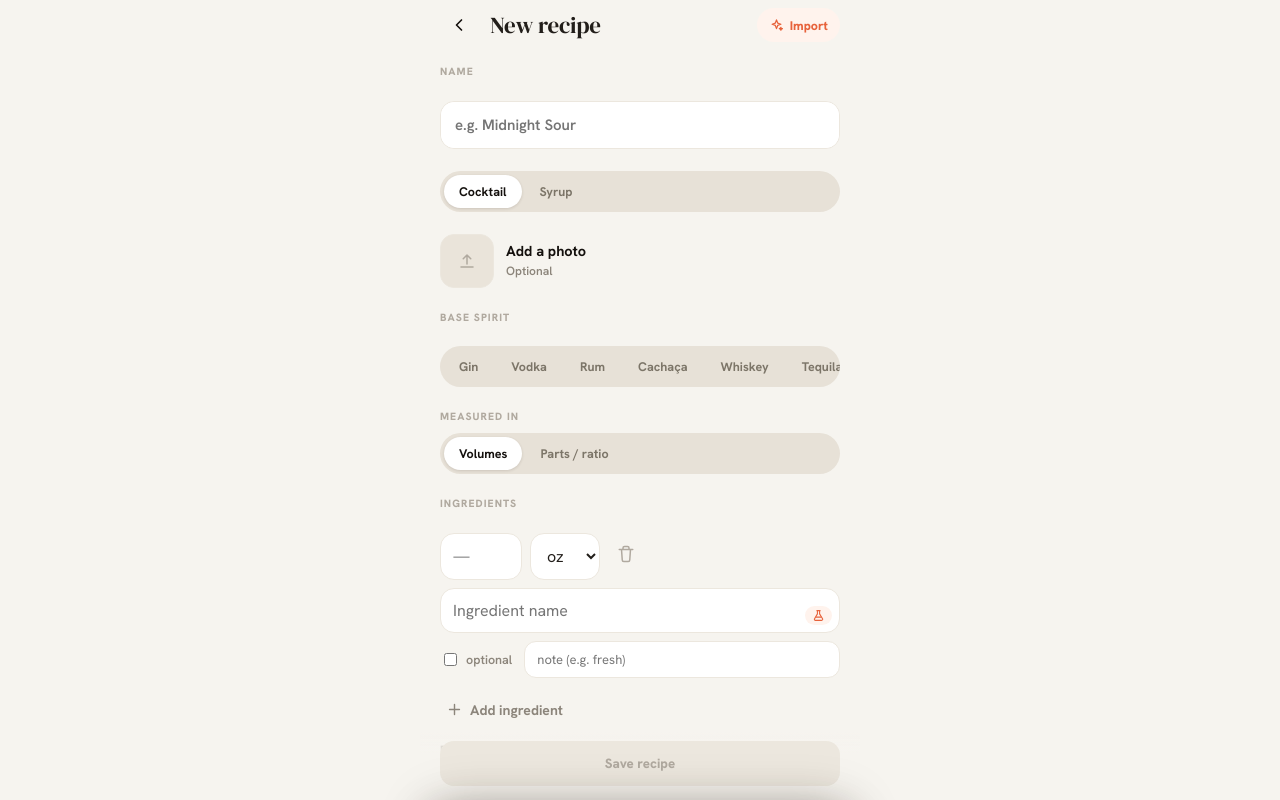
Test: generate a photo (photo sheet) › names the daily limit when generation is refused, and stops offering Generate
The image size is (1280, 800).
Type "Daiquiri" into the field with placeholder "e.g. Midnight Sour" at [640, 125], box [441,102,839,148]
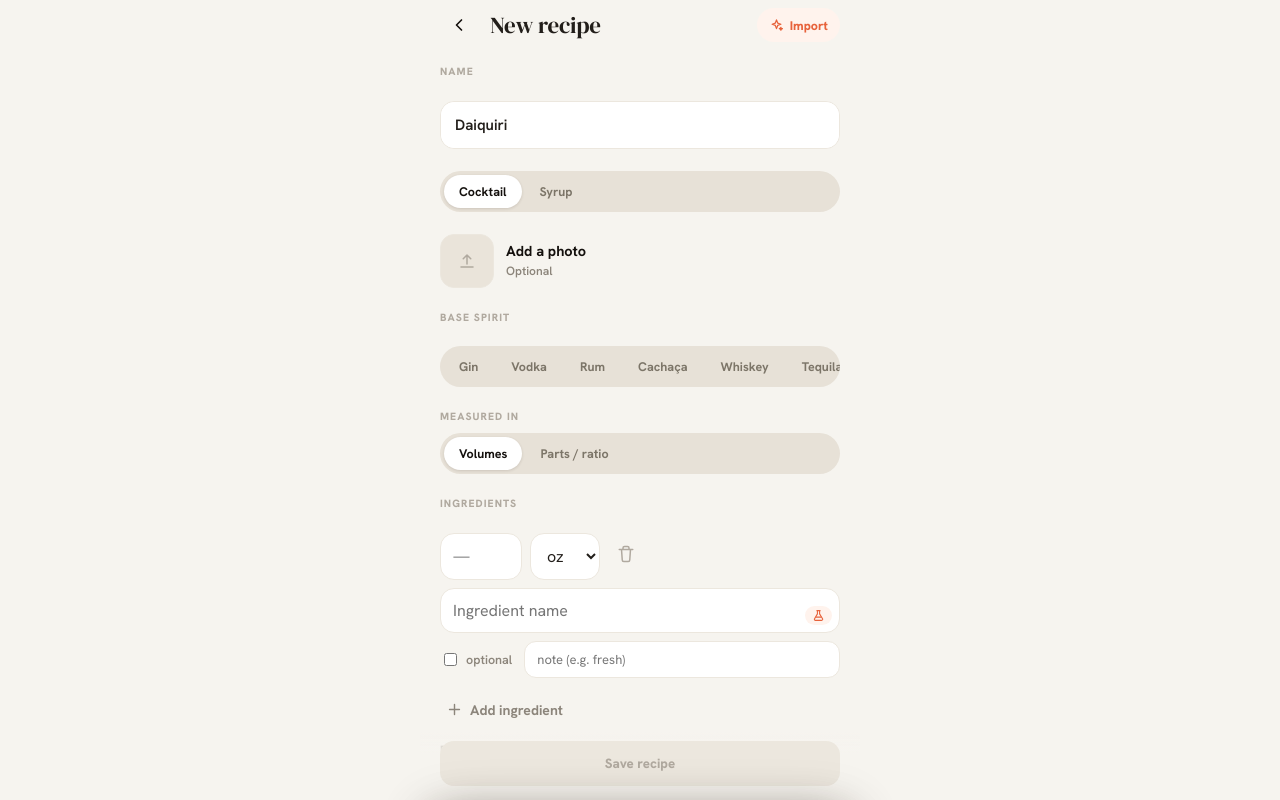
Click the button named "add a photo" at [467, 261], box [440,234,494,288]
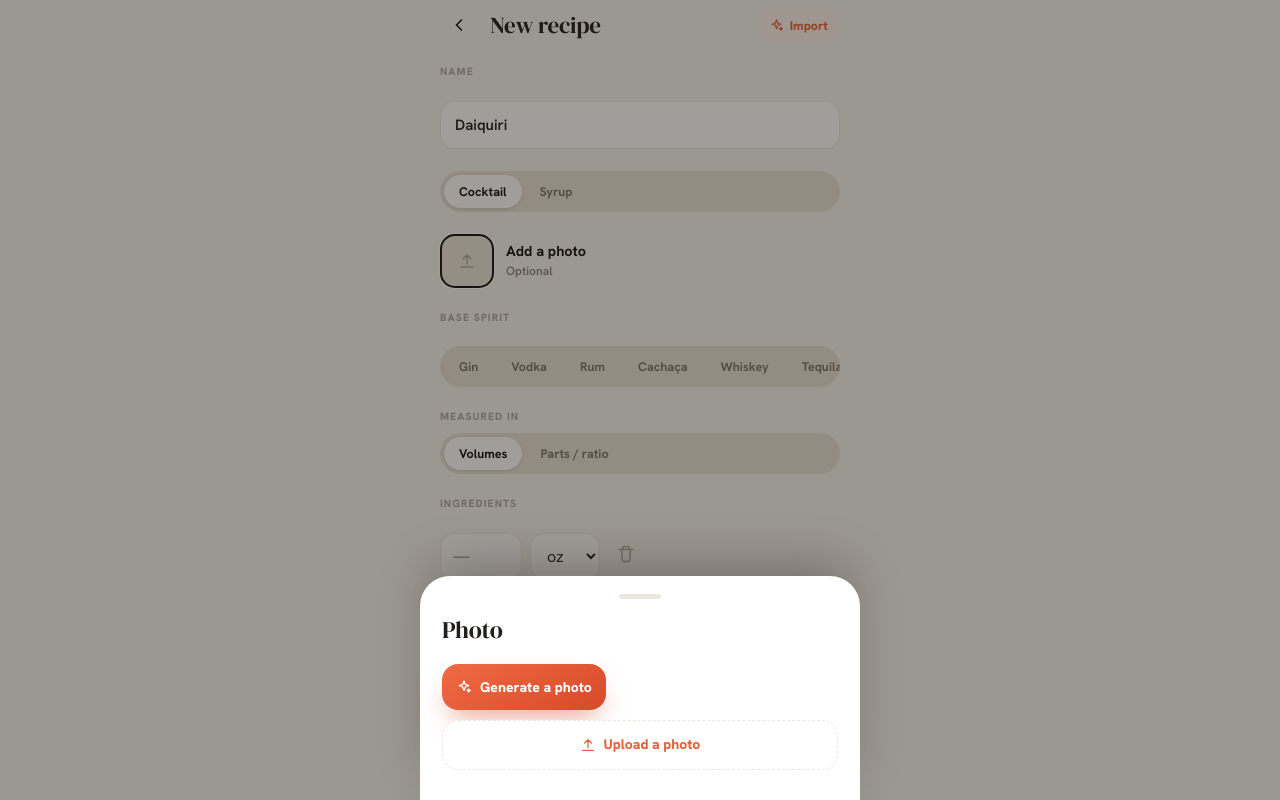
Click the button "Generate a photo" at [524, 687], box [442,664,606,710]
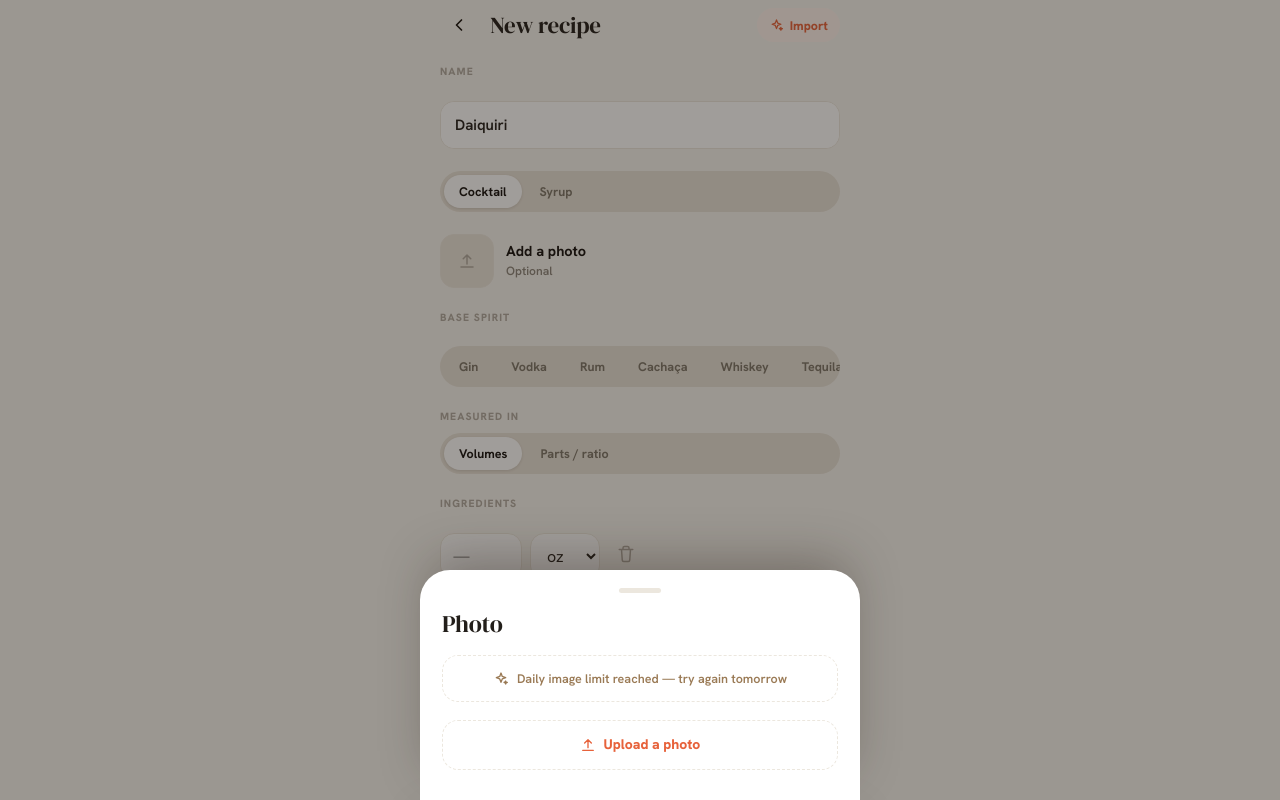
Now the text "Daily image limit reached — try again tomorrow" is shown, box [442,655,838,702]
Now the button "Generate a photo" is gone
